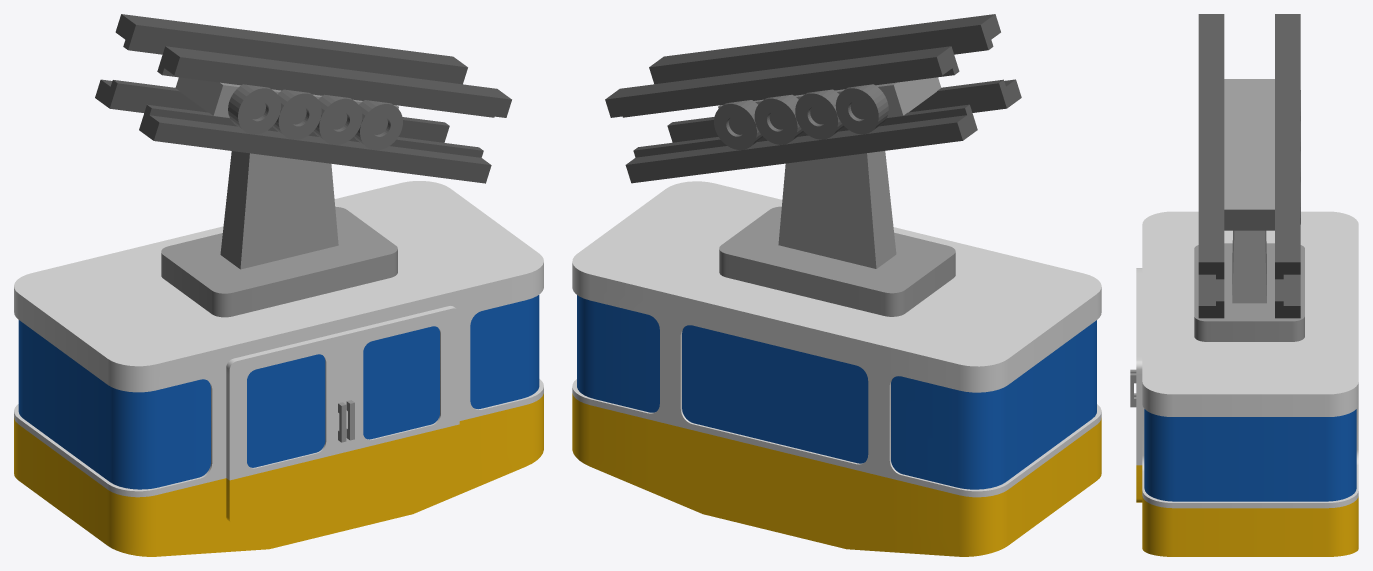
File: mountain_cableway.fbx
3 views of the same model, side by side, from view 1: azimuth 30°, elevation 25°; view 2: azimuth 150°, elevation 25°; view 3: azimuth 270°, elevation 25° (orthographic). The views are drawn at different scales.
Parts seen in each view (by area): view 1: Cube.861; view 2: Cube.861; view 3: Cube.861.
Boxes of the visible parts, x1=… form: Cube.861: x1=14, y1=14, x2=543, y2=556; Cube.861: x1=572, y1=14, x2=1101, y2=556; Cube.861: x1=1130, y1=14, x2=1358, y2=556.
Size of the model in its own units: 200 by 214 by 106.
Materials: 1 (1 with a texture image).
